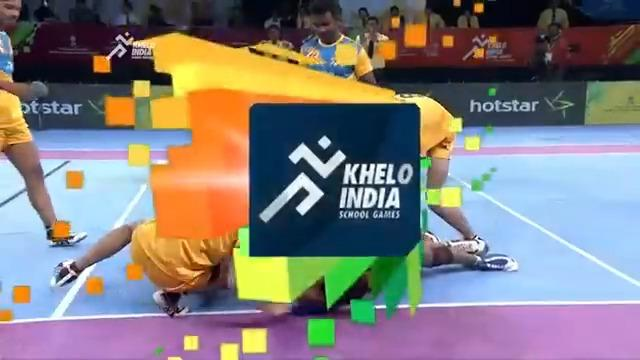Player: (49, 2, 517, 317), (49, 217, 489, 317), (0, 0, 87, 247), (295, 0, 377, 85)
referee: (528, 21, 566, 81), (535, 0, 569, 34)
